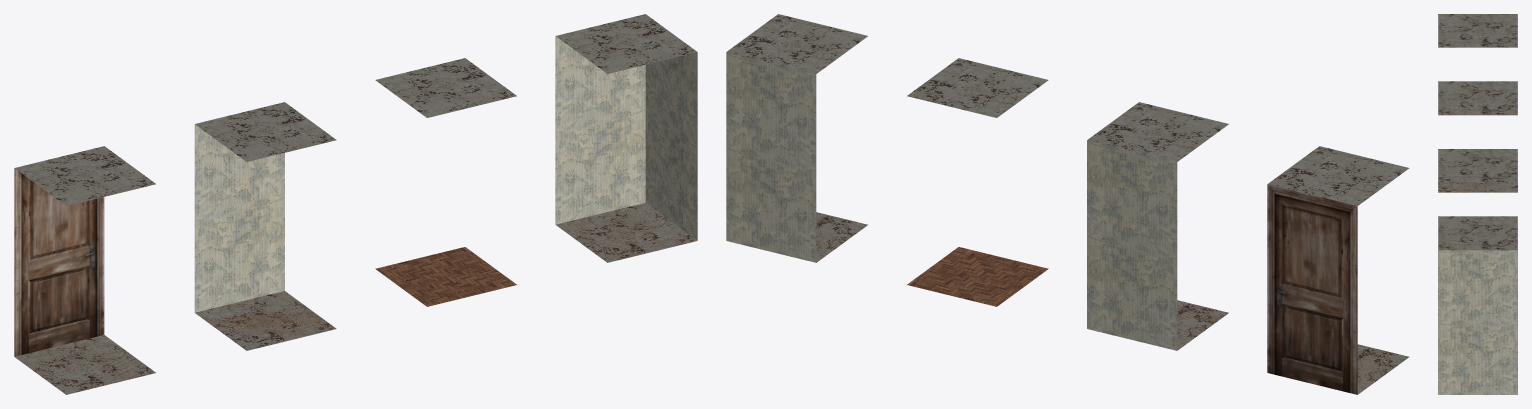
File: tileset.glb
3 views of the same model, side by side, from view 1: azimuth 30°, elevation 25°; view 2: azimuth 150°, elevation 25°; view 3: azimuth 270°, elevation 25° (orthographic). The views are drawn at different scales.
Parts seen in each view (by area): view 1: corner-col, wall-col, door-col, floor-col; view 2: door-col, corner-col, wall-col, floor-col; view 3: corner-col, door-col, wall-col, floor-col.
Part boxes in pixels (x1,y1,x2,y2): corner-col: (555, 14, 697, 262); wall-col: (194, 102, 336, 350); door-col: (14, 146, 155, 394); floor-col: (375, 58, 516, 306); door-col: (1267, 146, 1409, 394); corner-col: (726, 14, 867, 262); wall-col: (1087, 102, 1228, 350); floor-col: (907, 58, 1048, 306); corner-col: (1438, 216, 1517, 394); door-col: (1438, 14, 1517, 192); wall-col: (1438, 81, 1517, 115); floor-col: (1438, 149, 1517, 182).
Size of the model in its own units: 7 by 2 by 1.
Materials: 1 (1 with a texture image).
